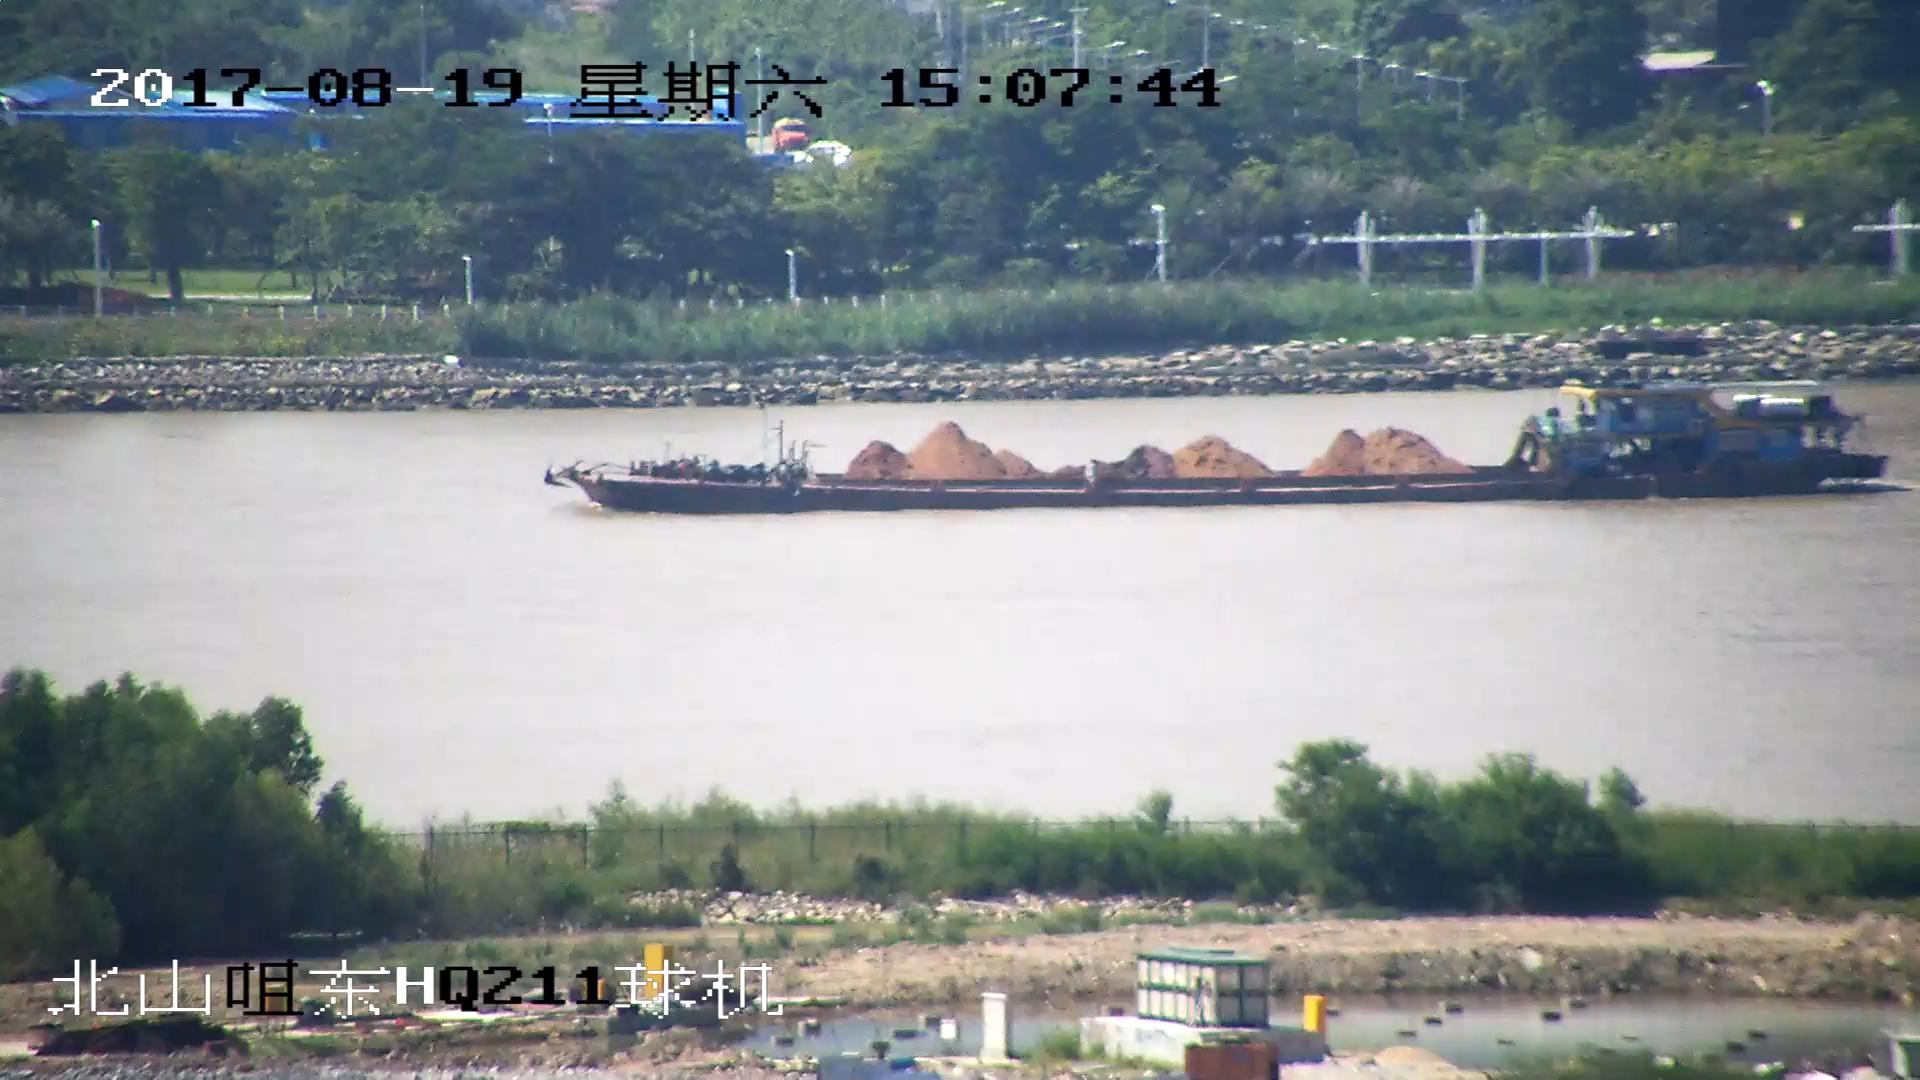ore carrier: (549, 384, 1887, 512)
